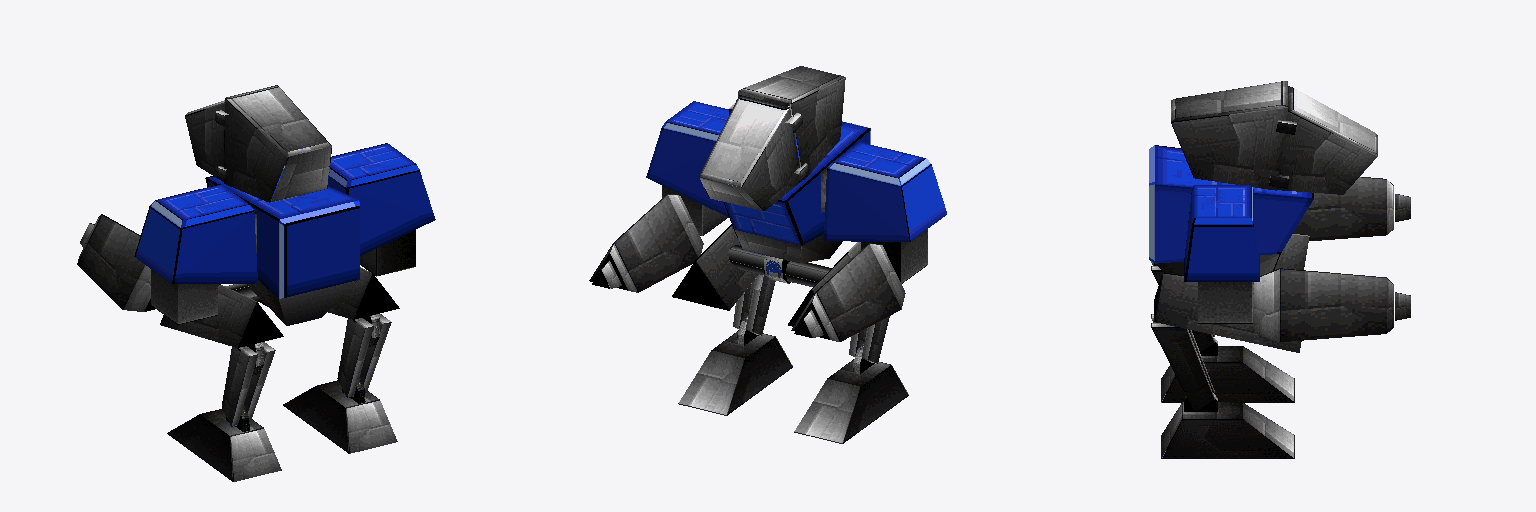
The picture shows the model from 3 angles: view 1: azimuth 30°, elevation 25°; view 2: azimuth 150°, elevation 25°; view 3: azimuth 270°, elevation 25°; orthographic projection.
Parts seen in each view (by area): view 1: body, leftLeg, rightLeg; view 2: body, rightLeg, leftLeg; view 3: body, rightLeg, leftLeg.
Boxes of the visible parts, x1=… form: body: x1=77, y1=85, x2=435, y2=325; leftLeg: x1=160, y1=284, x2=283, y2=481; rightLeg: x1=283, y1=267, x2=399, y2=453; body: x1=589, y1=66, x2=946, y2=341; rightLeg: x1=672, y1=224, x2=792, y2=415; leftLeg: x1=785, y1=242, x2=908, y2=443; body: x1=1149, y1=81, x2=1410, y2=341; rightLeg: x1=1151, y1=273, x2=1301, y2=458; leftLeg: x1=1151, y1=234, x2=1309, y2=402.
Size of the model in its own units: 22.4 by 26.14 by 19.08.
Materials: 1 (1 with a texture image).